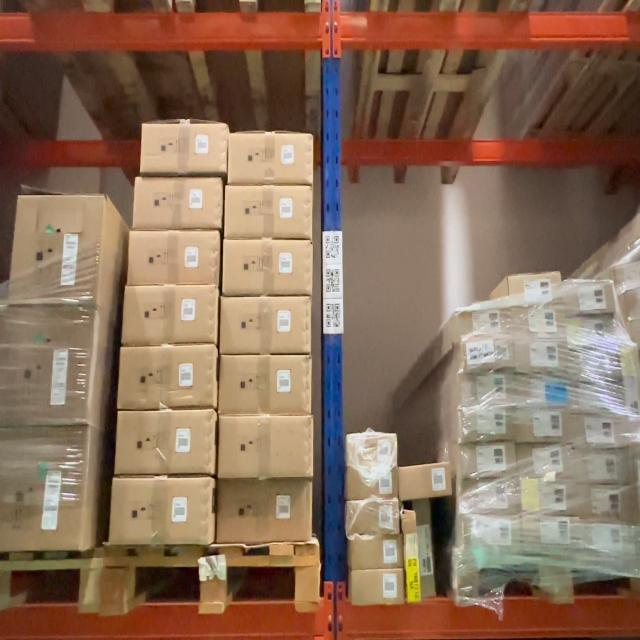box: (9, 196, 105, 306), (109, 478, 213, 545), (114, 410, 216, 478), (117, 345, 217, 410), (216, 416, 314, 479), (216, 480, 314, 542), (121, 286, 218, 347), (216, 354, 313, 414), (218, 295, 312, 352), (221, 239, 313, 297), (139, 119, 230, 177), (127, 231, 220, 286), (132, 177, 223, 231), (224, 184, 315, 237), (227, 133, 315, 184), (457, 443, 515, 481), (458, 407, 514, 446), (518, 481, 577, 518), (460, 371, 516, 408), (515, 374, 572, 409), (415, 499, 436, 594), (516, 445, 574, 479), (521, 515, 580, 548), (459, 481, 518, 514), (351, 568, 405, 604), (507, 271, 562, 306), (400, 462, 452, 499), (456, 306, 514, 339), (461, 335, 513, 371), (351, 535, 403, 571), (574, 448, 629, 482), (577, 486, 630, 521), (348, 432, 398, 469), (460, 516, 519, 547), (514, 340, 571, 372), (570, 350, 622, 385), (348, 501, 400, 536), (511, 308, 566, 341), (563, 281, 617, 314), (573, 414, 628, 446), (570, 381, 623, 414), (580, 522, 630, 556), (516, 410, 572, 440), (347, 469, 397, 501), (567, 318, 620, 346), (404, 508, 419, 602)
